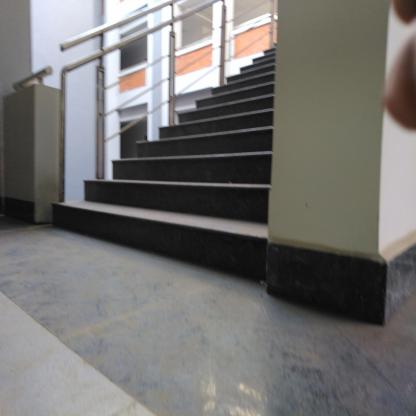stairs: (180, 112, 267, 290)
